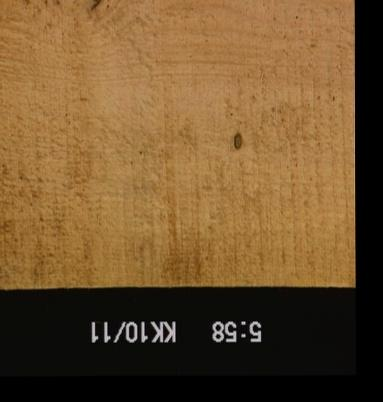dry_knot: (233, 131, 244, 150)
